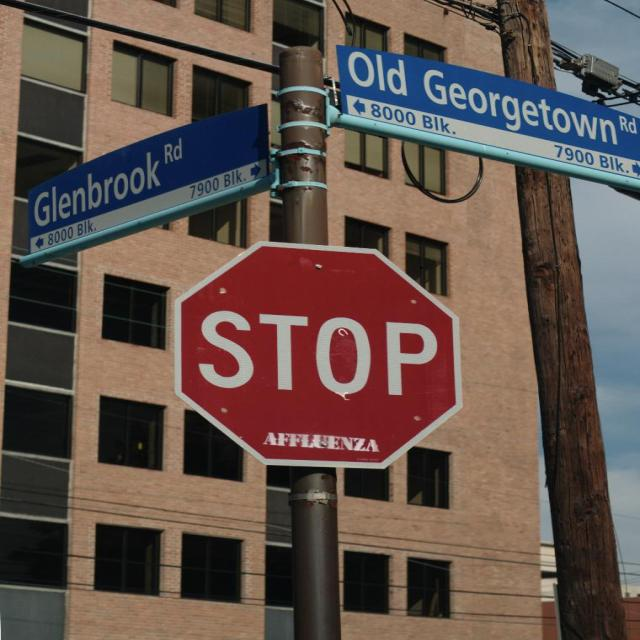Stop-sign: (173, 245, 463, 464)
